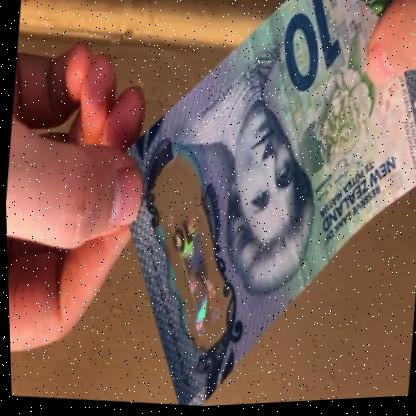10B: (157, 207, 236, 347)
